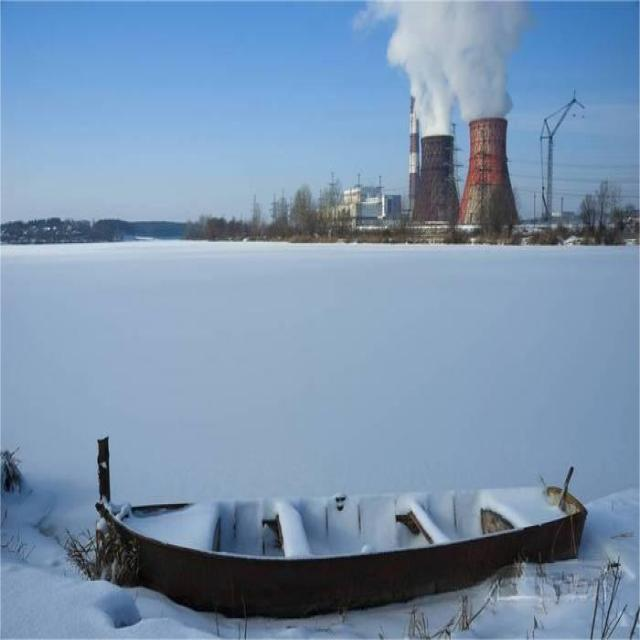Smoke: (388, 0, 518, 129)
